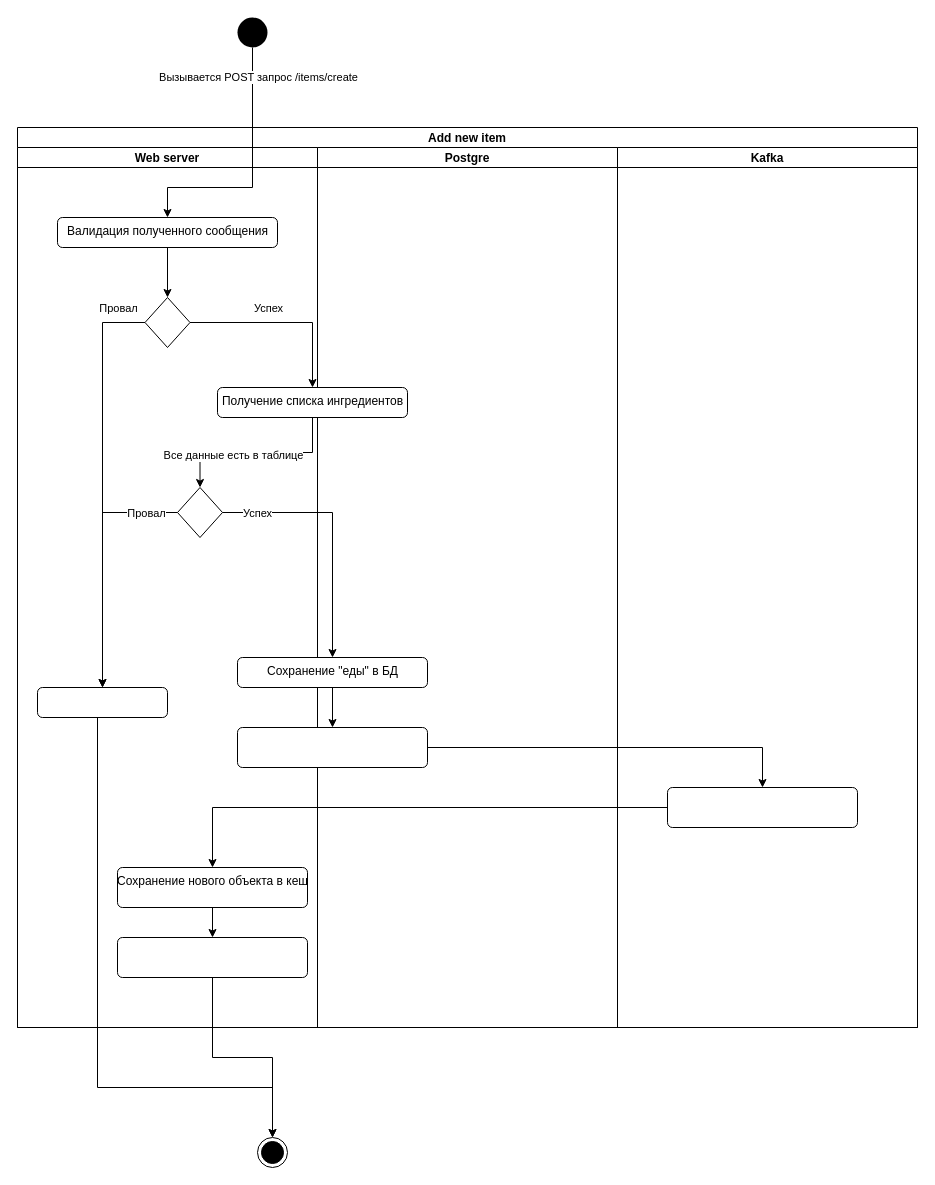
Image size: 935x1185. Some labels were removed from this diagram. Here are the shapes that lost their labels. From the top down, the centre of each, then its label:
pixel 102 702: Вывод ошибки
pixel 332 747: Сохранение привязанных ингредиентов в БД
pixel 762 807: Отправка сообщения в топик
pixel 212 957: Генерация успешного ответа
